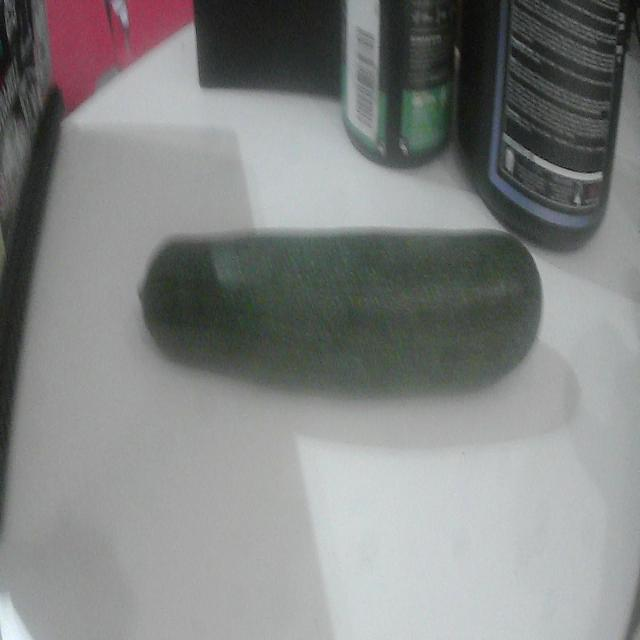Courgette: (140, 232, 541, 396)
